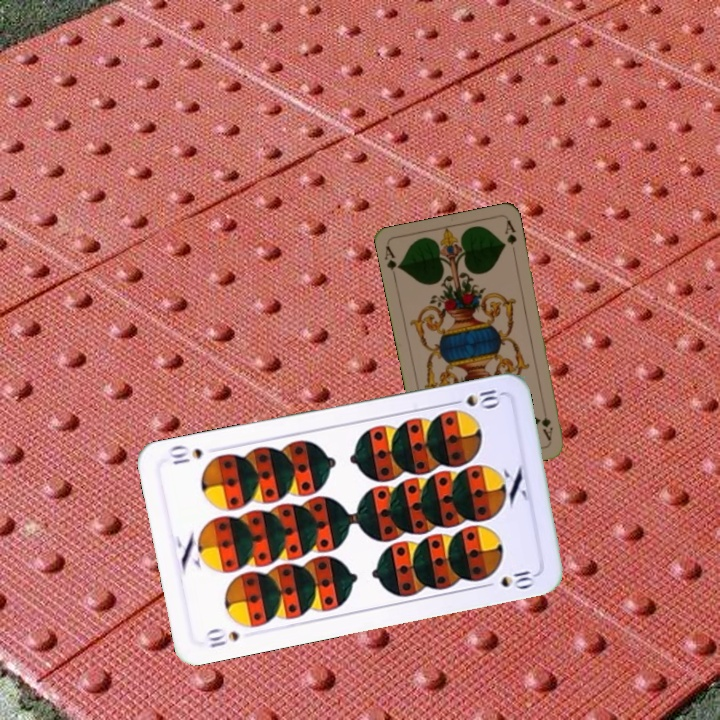GA: (381, 242, 403, 282), (538, 402, 555, 443)
S10: (445, 384, 504, 410), (201, 625, 242, 651)
